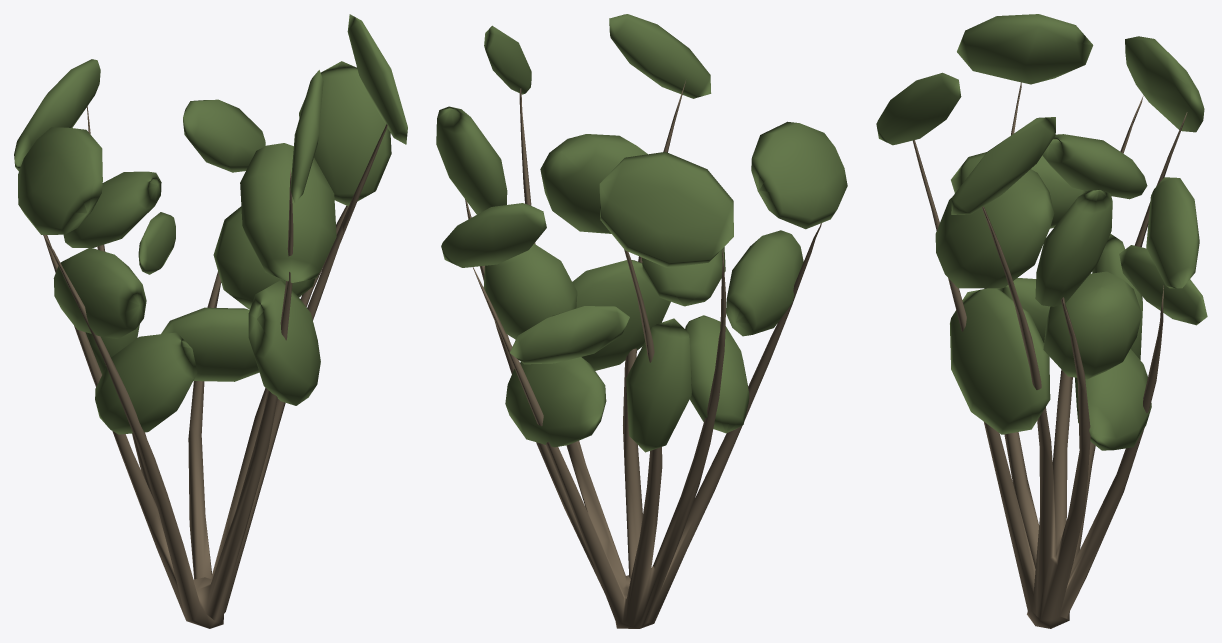
File: Bruyere_2_Niveau2.fbx
The picture shows the model from 3 angles, left to right: view 1: azimuth 30°, elevation 25°; view 2: azimuth 150°, elevation 25°; view 3: azimuth 270°, elevation 25°; orthographic projection. The views are drawn at different scales.
Visible parts, largest first — view 1: Bruyere_2_Niveau2_Jeu; view 2: Bruyere_2_Niveau2_Jeu; view 3: Bruyere_2_Niveau2_Jeu.
Boxes of the visible parts, <box> form: Bruyere_2_Niveau2_Jeu: <box>14,14,407,628</box>; Bruyere_2_Niveau2_Jeu: <box>436,14,847,628</box>; Bruyere_2_Niveau2_Jeu: <box>876,14,1207,628</box>.
Bounding box in the file's own units: 147 × 211 × 110.
